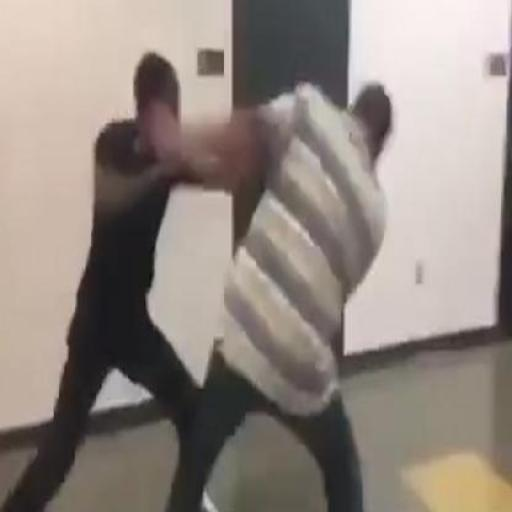Fighting: (0, 54, 393, 512)
